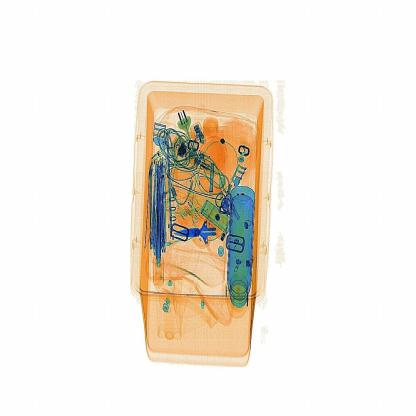gun: (172, 197, 238, 260)
